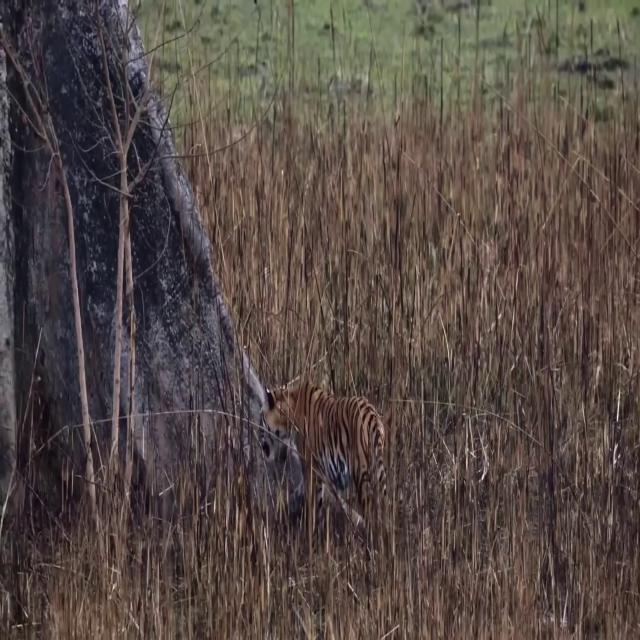tiger: (263, 376, 387, 554)
